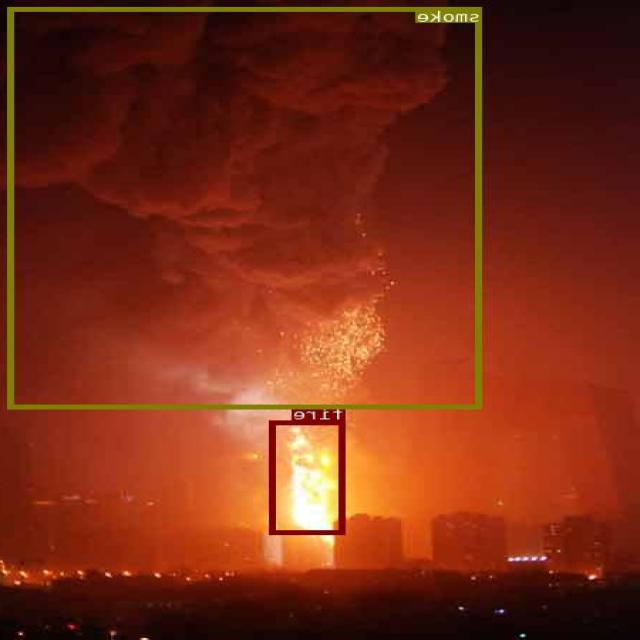fire: (271, 420, 346, 534)
smoke: (9, 6, 483, 408)
